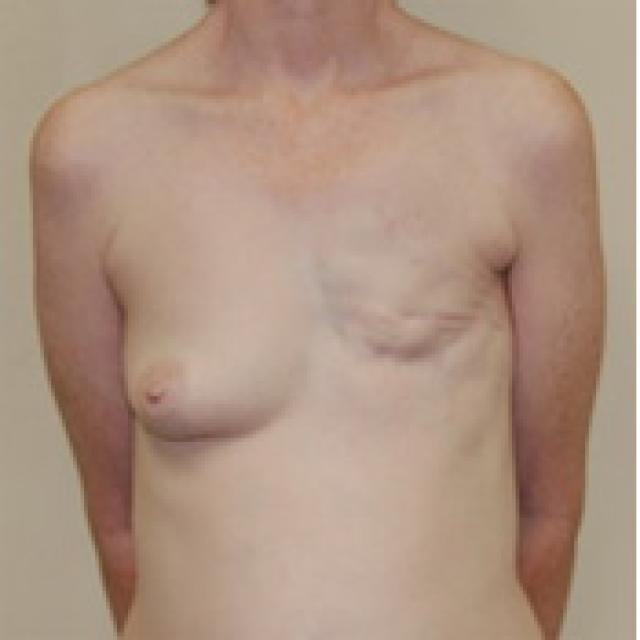Seno herido: (317, 240, 521, 460)
Seno ileso: (117, 240, 313, 459)
